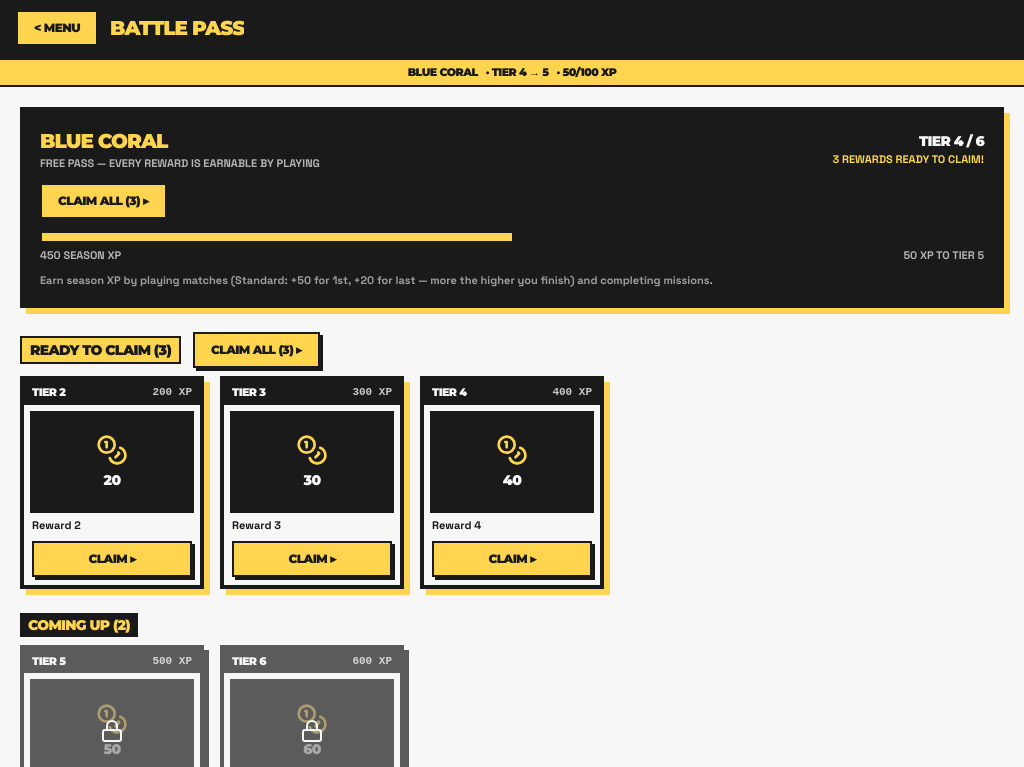
Scenario: CLAIM ALL › stops on the first failure and reports how far it got
Click the 1st button "CLAIM ALL (3) ▸". click: (103, 201)
box: [40,183,166,219]
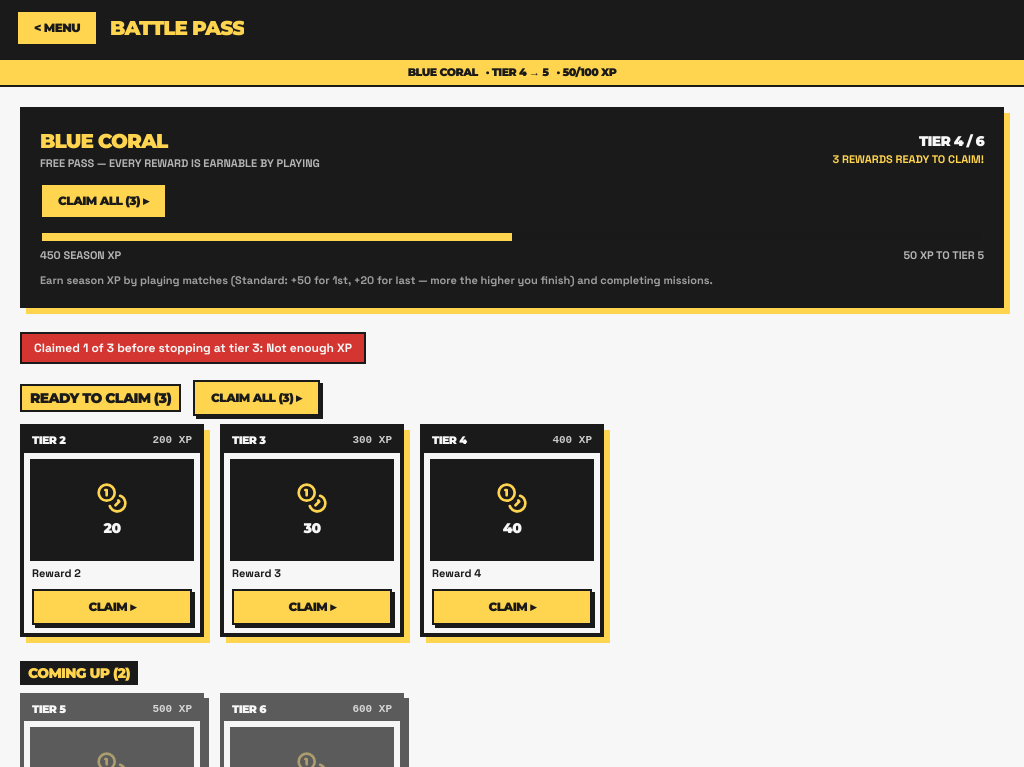
expect the text "Claimed 1 of 3 before stopping at tier 3: Not enough XP" is shown: met, box [20,332,366,364]
